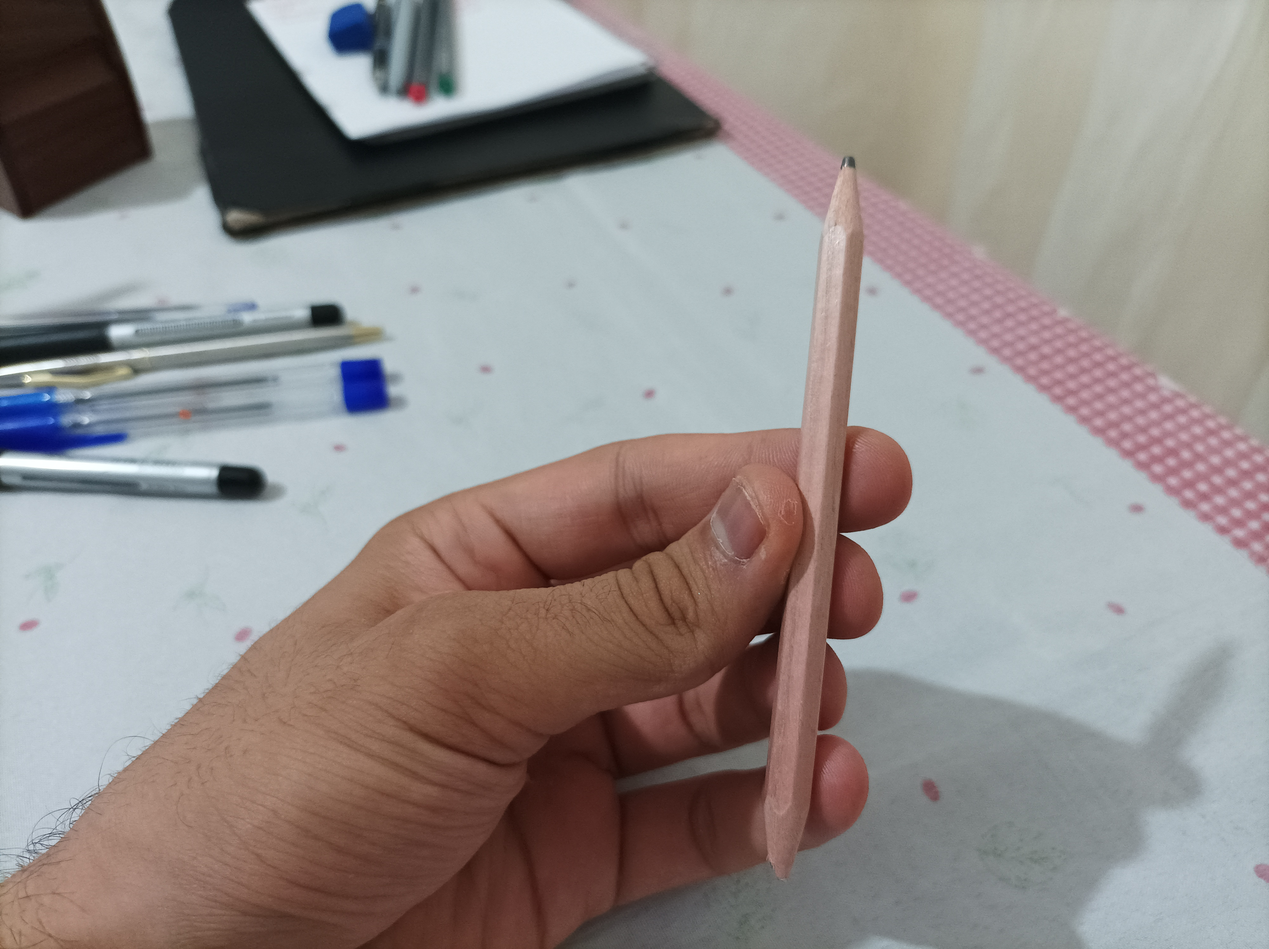plastic: (762, 152, 863, 888)
